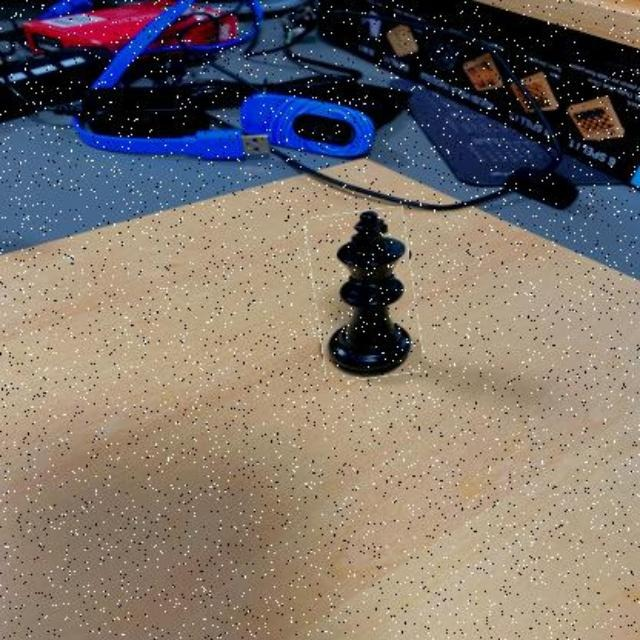black-king: (310, 209, 419, 381)
